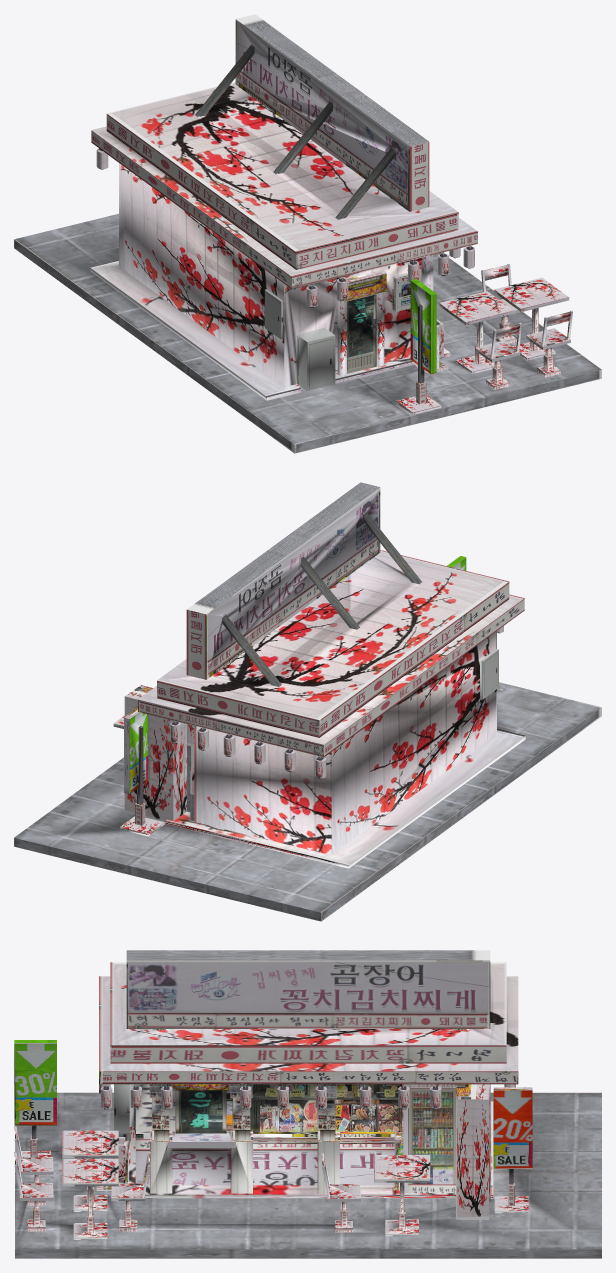
Rendered from korean_shop_DomitorifaB.glb.
The picture shows the model from 3 angles, top to bottom: view 1: azimuth 30°, elevation 25°; view 2: azimuth 150°, elevation 25°; view 3: azimuth 270°, elevation 25°; orthographic projection. The views are drawn at different scales.
Visible parts, largest first — view 1: Cube; view 2: Cube; view 3: Cube.
Boxes of the visible parts, x1,y1,x2,y2 form: Cube: (14, 14, 601, 453); Cube: (14, 482, 601, 921); Cube: (14, 950, 601, 1258).
Size of the model in its own units: 4.49 by 3.17 by 7.11.
1 material, 1 textured.
